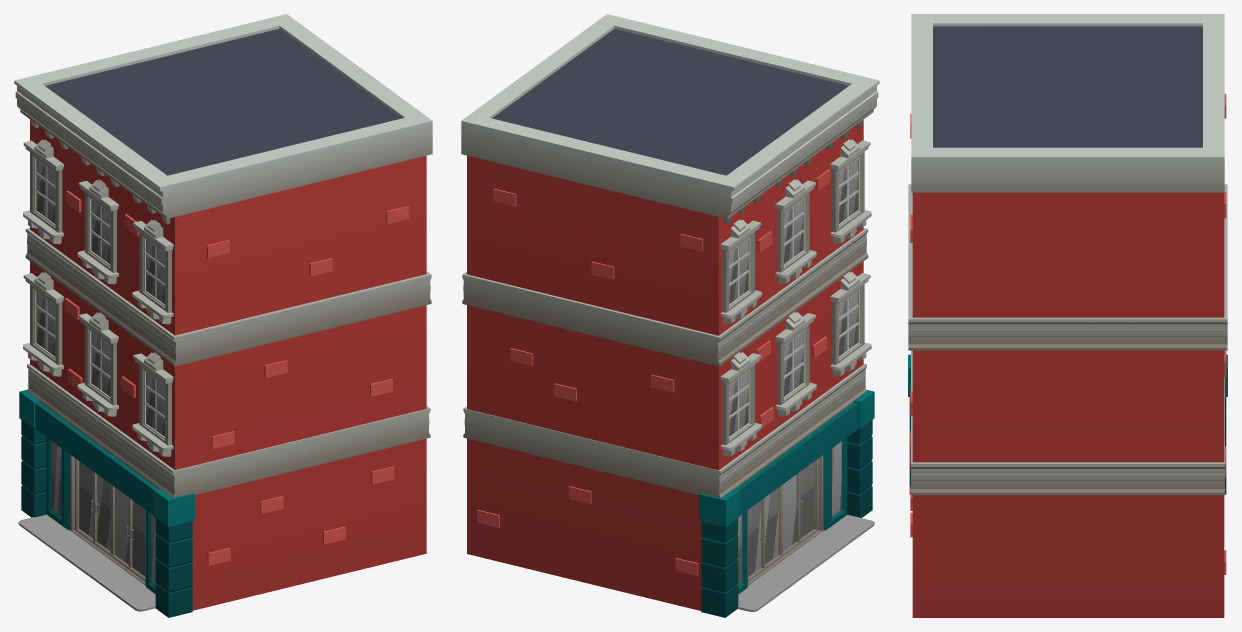
File: Building_21_3_A.fbx
3 views of the same model, side by side, from view 1: azimuth 30°, elevation 25°; view 2: azimuth 150°, elevation 25°; view 3: azimuth 270°, elevation 25° (orthographic). The views are drawn at different scales.
Visible parts, largest first — view 1: Building_21_3_A; view 2: Building_21_3_A; view 3: Building_21_3_A.
Part boxes in pixels (left/top/right/bottom): Building_21_3_A: left=14, top=14, right=432, bottom=617; Building_21_3_A: left=461, top=14, right=879, bottom=617; Building_21_3_A: left=908, top=14, right=1227, bottom=617.
Size of the model in its own units: 779 by 1141 by 713.
